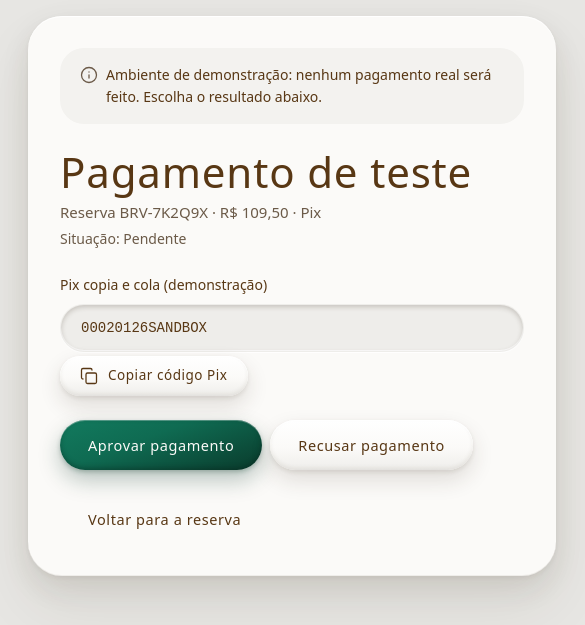
Test: SandboxCheckoutPage (NUC-120) › approves through the endpoint and links back to the checkout of the booking
Step 1. Click the button "Aprovar pagamento" → (161, 445), box [60,420,262,470]
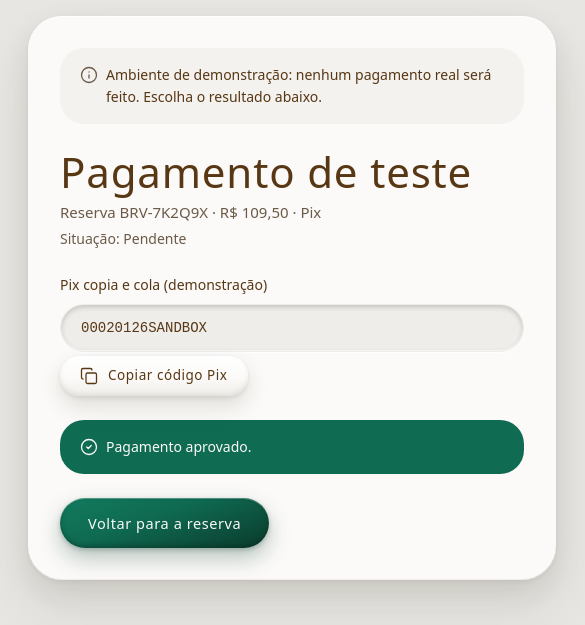
Now the text "Pagamento aprovado." is shown, box [106,437,252,456]
Now the button "Aprovar pagamento" is gone
